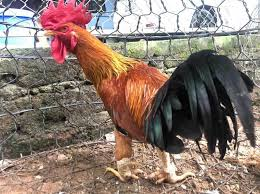Gà/Chicken: (24, 1, 254, 189)
